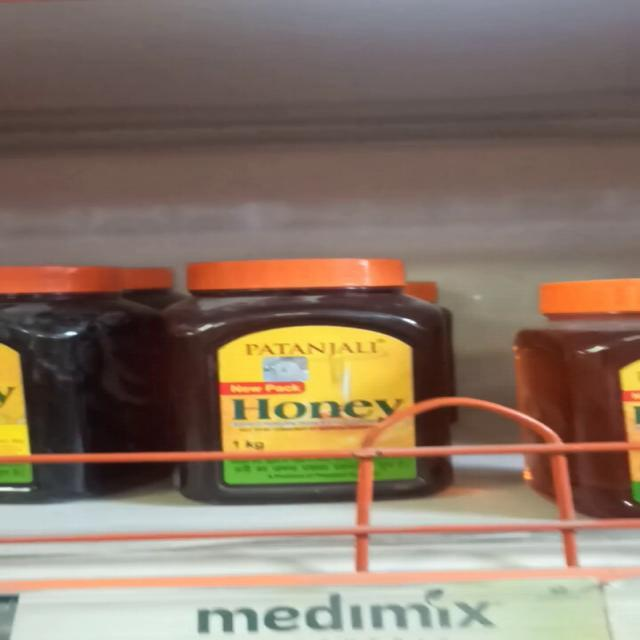Patanjali Honey: (190, 253, 438, 484)
